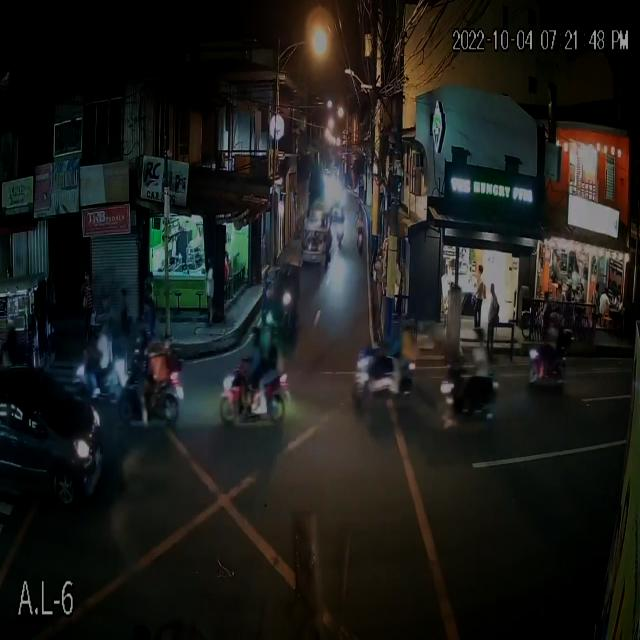Full-Faced: (248, 324, 264, 350)
